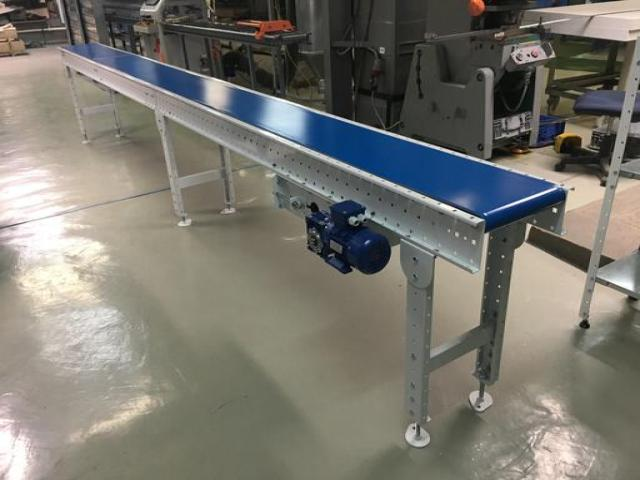conveyor: (49, 34, 570, 308)
